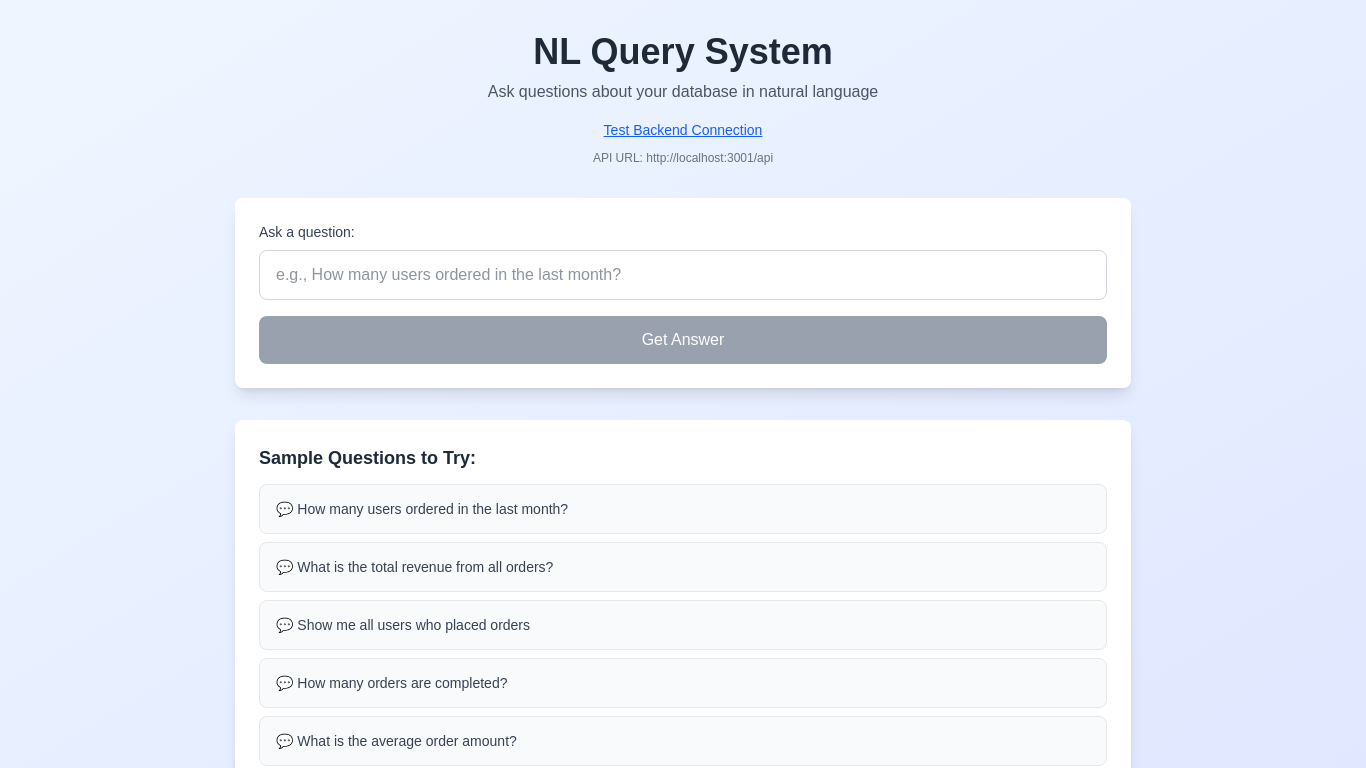
Test: Home Page › displays answer after successful submission
In the field with placeholder "e.g., How many users ordered in the last month?": (683, 275) [259, 250, 1107, 300], type "How many users ordered?"
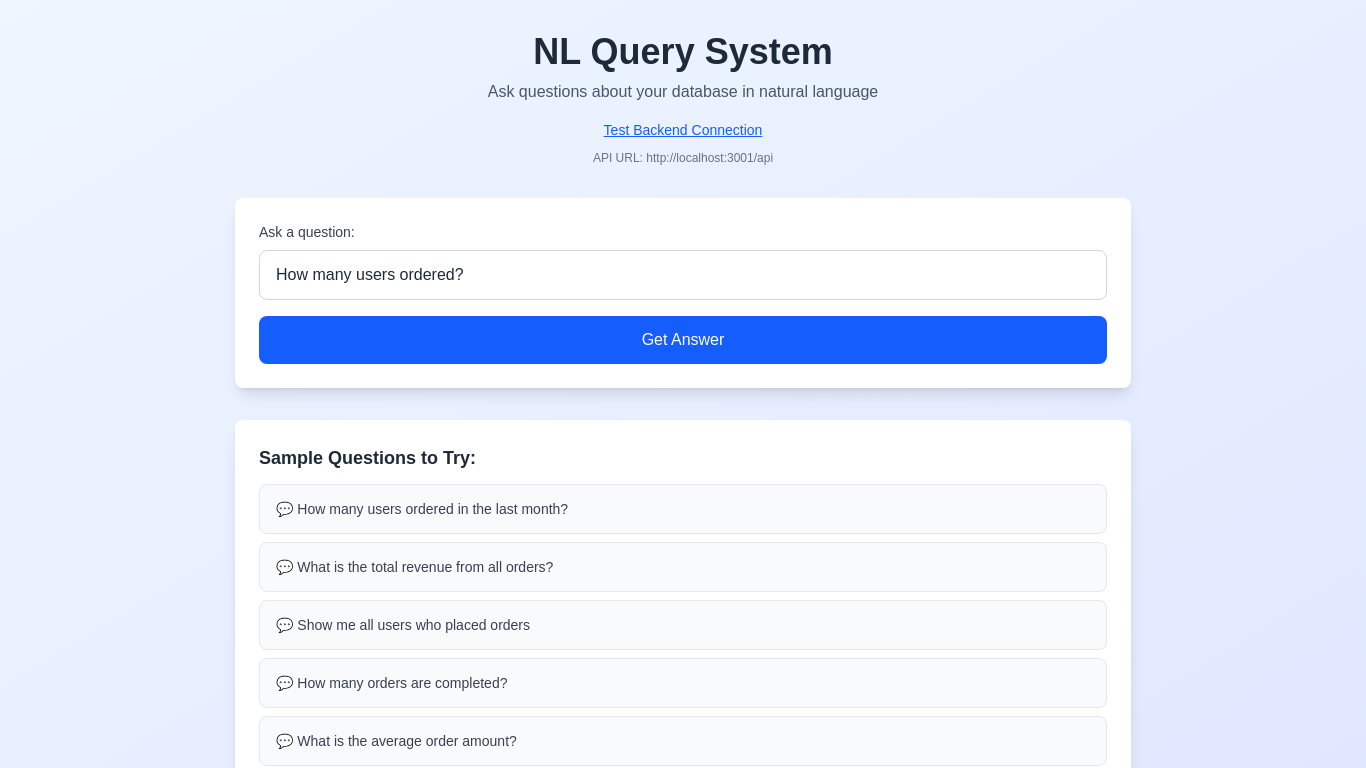
Click the button "Get Answer": (683, 340) [259, 316, 1107, 364]
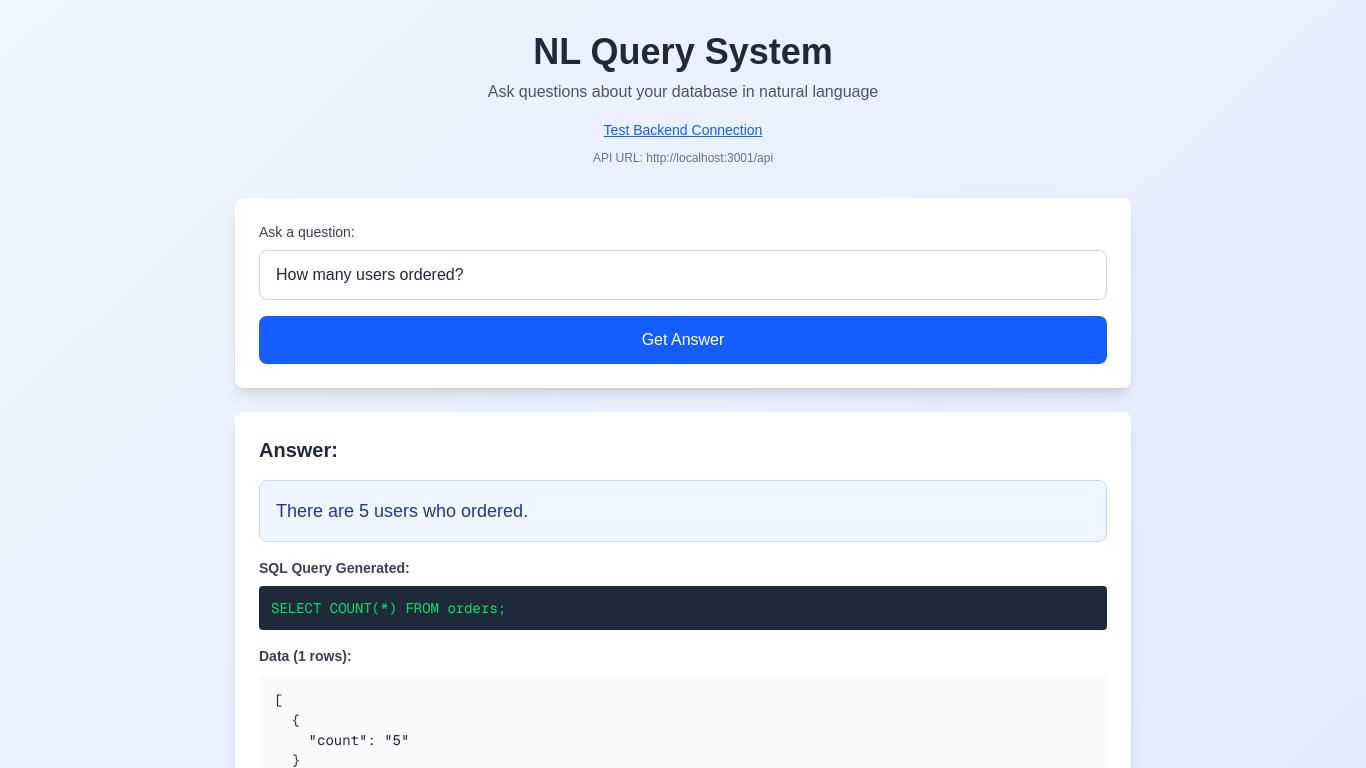
Now the text "There are 5 users who ordered." is shown, box [276, 501, 528, 521]
Now the heading "SQL Query Generated:" is shown, box [259, 560, 410, 576]
Now the text "SELECT COUNT(*) FROM orders;" is shown, box [259, 586, 1107, 630]
